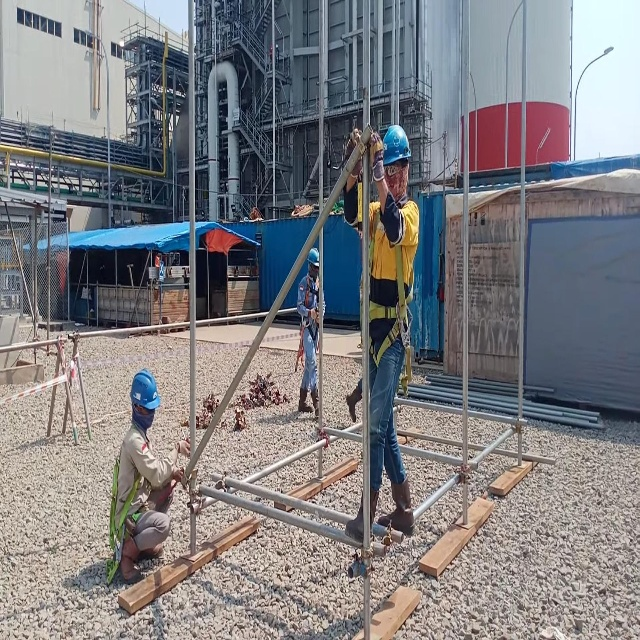Arnes_seguridad: (359, 201, 417, 394), (102, 440, 147, 592), (293, 272, 324, 375)
